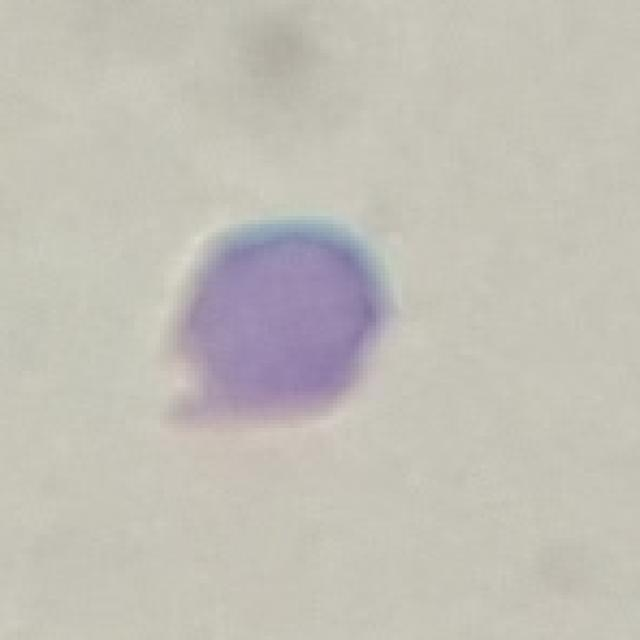non-sperm: (158, 203, 400, 436)
